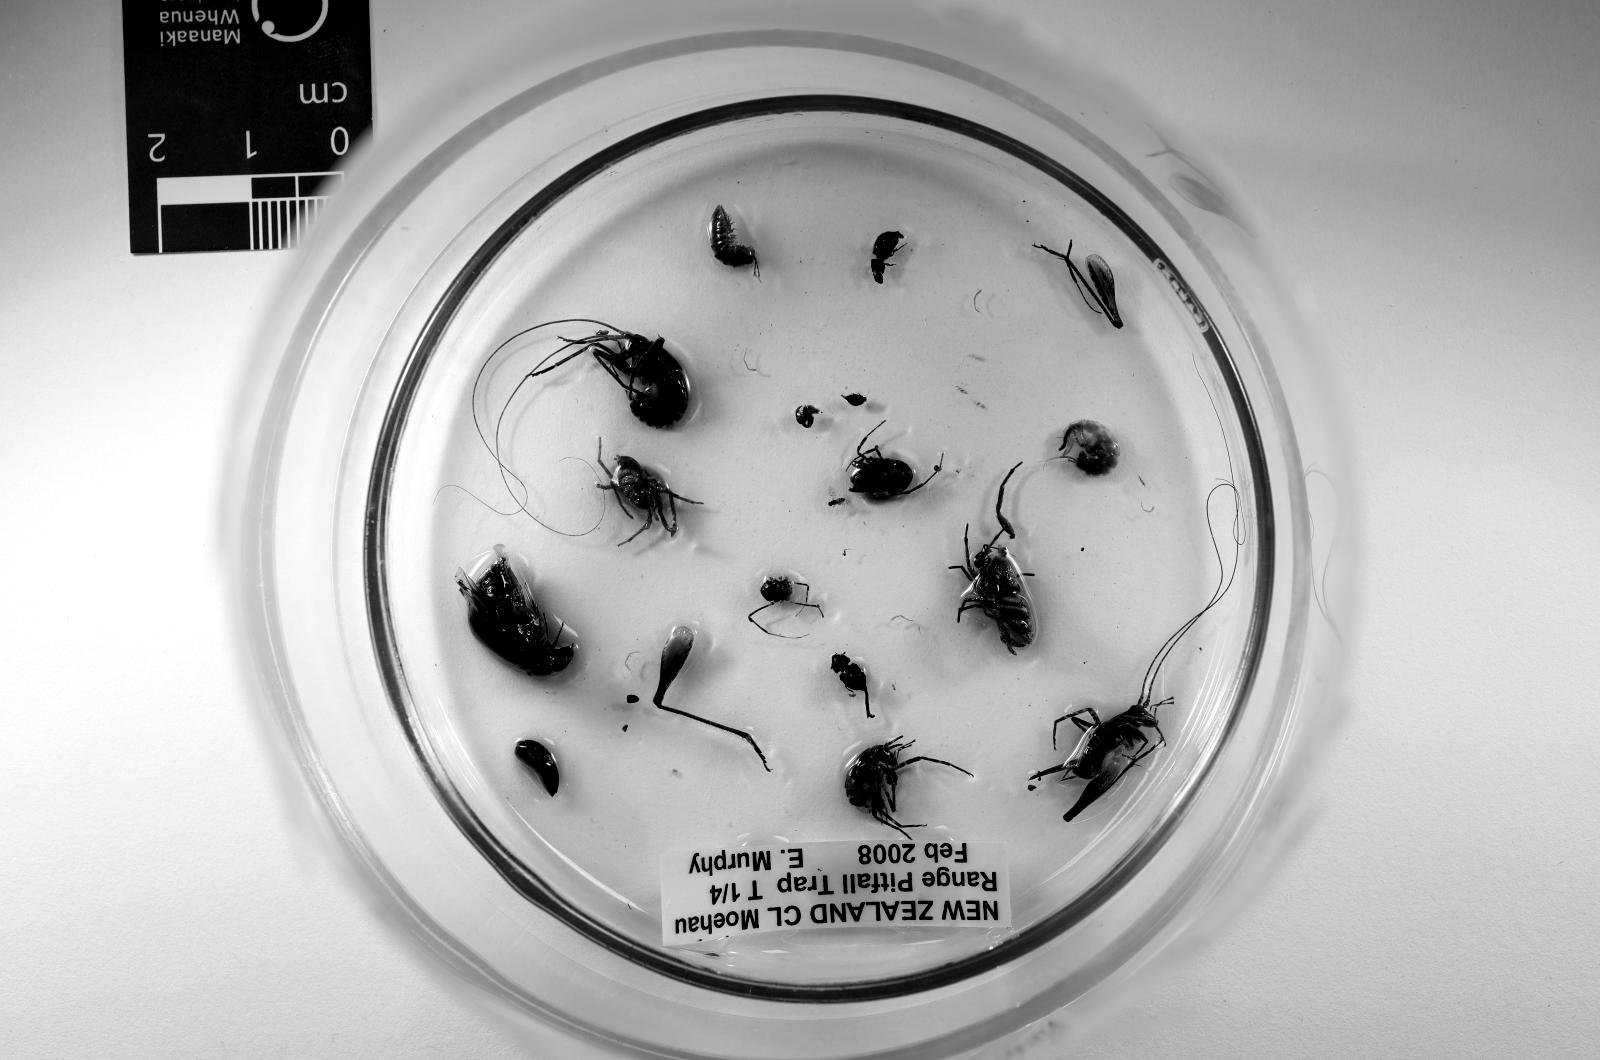amphipoda: (1060, 419, 1119, 476)
araneae: (950, 525, 1037, 655), (597, 457, 704, 543)
coleoptera: (456, 547, 575, 674), (872, 230, 903, 283), (831, 655, 866, 692), (847, 394, 866, 407)
isopoda: (710, 205, 759, 277)
opiliones: (847, 435, 940, 497), (747, 575, 822, 640)
orthoptera: (1028, 481, 1237, 823), (494, 317, 691, 428), (847, 736, 972, 835)
